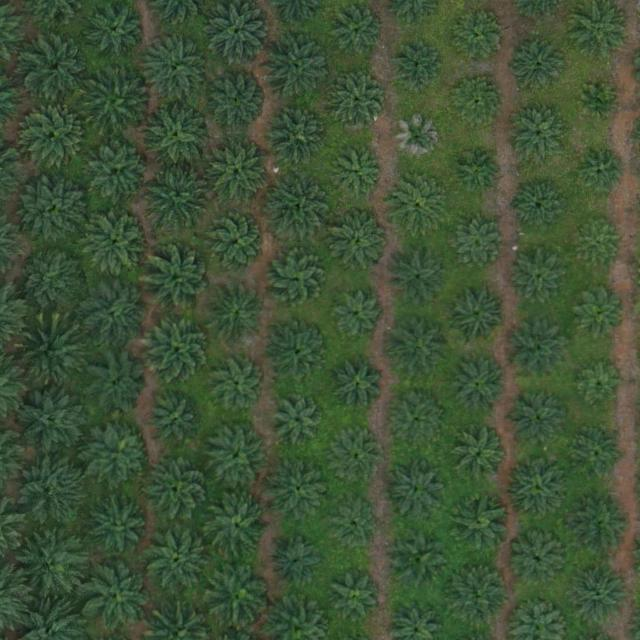Kelapa_Sawit: (82, 65, 152, 136), (138, 33, 208, 104), (140, 100, 210, 171), (145, 162, 215, 233), (261, 172, 331, 243), (21, 34, 91, 104), (21, 174, 91, 244), (262, 31, 332, 101), (141, 244, 211, 314), (142, 313, 212, 383), (15, 246, 85, 316), (15, 318, 85, 388), (17, 384, 87, 454), (14, 452, 84, 522), (17, 527, 87, 597), (82, 561, 152, 631), (141, 523, 211, 593), (23, 103, 85, 166), (87, 139, 149, 202), (265, 104, 327, 167), (389, 172, 451, 235), (504, 318, 566, 381), (444, 213, 506, 276), (444, 281, 506, 344), (385, 244, 447, 307), (269, 457, 331, 520), (205, 281, 267, 344), (205, 424, 267, 487), (205, 497, 267, 560), (145, 458, 207, 521), (82, 211, 144, 274), (80, 281, 142, 344), (86, 353, 148, 416), (87, 422, 149, 485), (85, 493, 147, 556), (387, 527, 449, 590), (447, 560, 509, 623), (570, 563, 632, 626), (205, 69, 267, 131), (207, 142, 269, 204), (568, 494, 630, 556), (505, 455, 567, 517), (447, 491, 509, 553), (387, 316, 449, 378), (384, 458, 446, 520), (328, 209, 390, 271), (265, 247, 327, 309), (267, 320, 329, 382), (205, 210, 267, 272), (206, 562, 268, 624), (565, 0, 626, 60), (205, 0, 265, 60), (86, 0, 141, 56), (450, 142, 505, 197), (451, 11, 506, 66), (449, 75, 504, 130), (513, 180, 568, 235), (571, 426, 626, 481), (510, 251, 565, 306), (509, 391, 564, 446), (330, 289, 385, 344), (148, 392, 203, 447), (511, 533, 566, 588), (267, 591, 329, 639), (570, 284, 624, 339), (328, 6, 382, 61), (330, 75, 384, 130), (510, 39, 564, 94), (511, 108, 565, 163), (450, 359, 504, 414), (452, 428, 506, 483), (389, 396, 443, 451), (272, 391, 326, 446), (210, 356, 264, 411), (14, 599, 86, 640), (148, 599, 211, 639), (507, 599, 566, 640), (385, 599, 438, 640), (334, 148, 380, 195), (336, 363, 382, 410), (334, 432, 380, 479), (274, 538, 320, 585), (332, 572, 378, 619), (578, 149, 624, 195), (577, 362, 623, 408), (393, 44, 439, 90), (394, 115, 440, 161), (573, 218, 619, 264), (329, 497, 375, 543), (580, 83, 619, 122)
